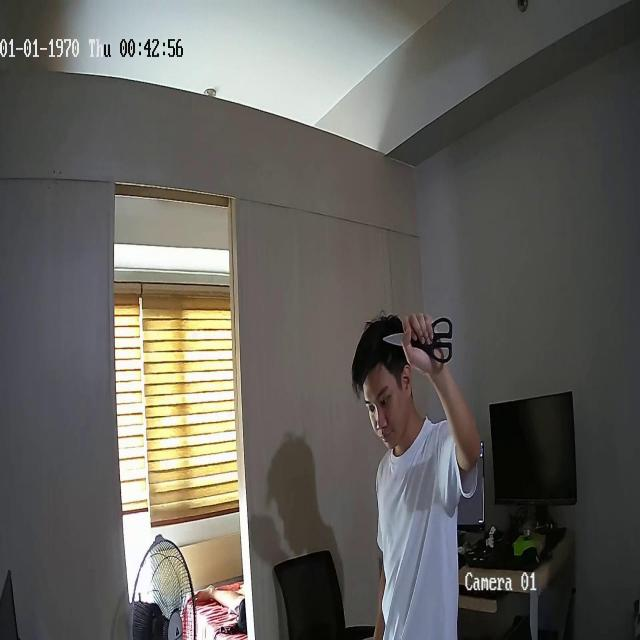scissor: (383, 316, 452, 362)
